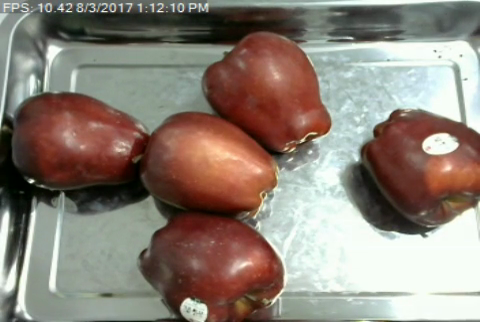Apple: (198, 28, 334, 157), (133, 210, 287, 322), (355, 104, 479, 234), (137, 109, 281, 219), (8, 89, 155, 195)
